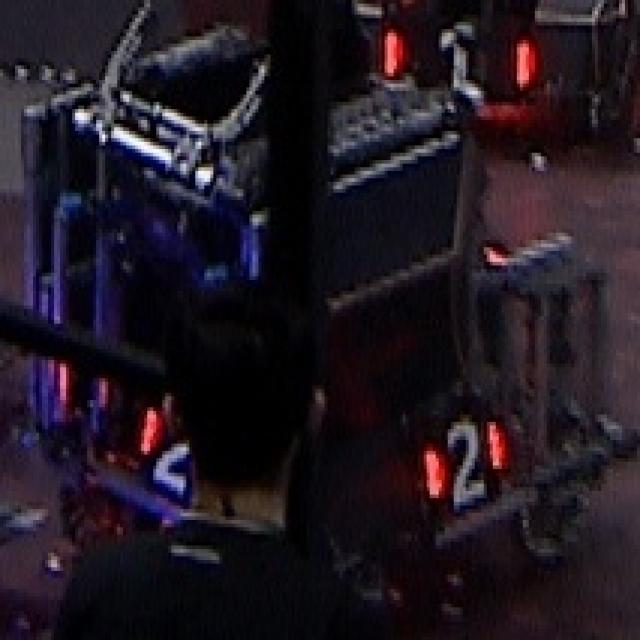R1: (374, 3, 533, 102)
R2: (419, 405, 515, 511), (130, 387, 202, 493)
